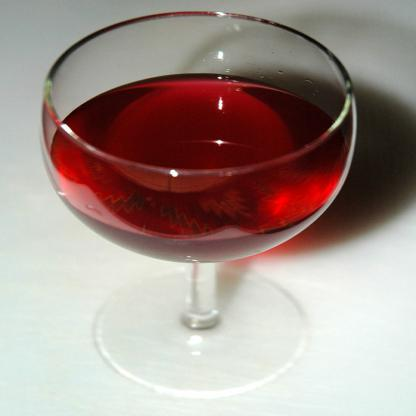drinking: (43, 11, 358, 400)
